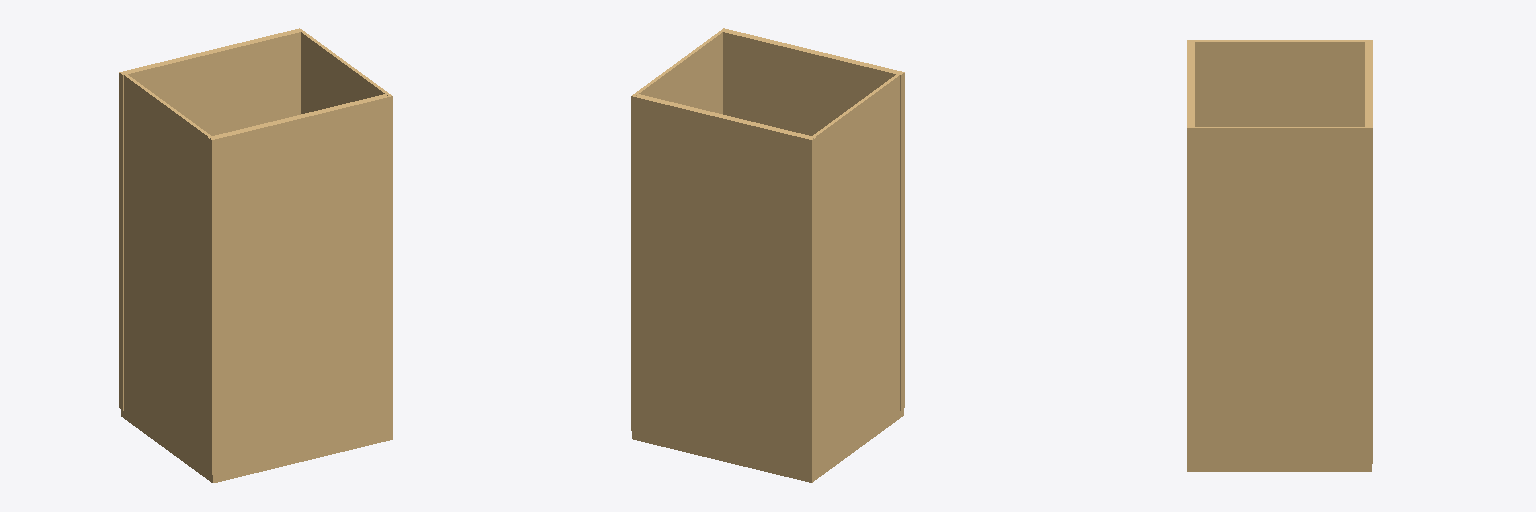
The model's file is chute.obj.
The picture shows the model from 3 angles: view 1: azimuth 30°, elevation 25°; view 2: azimuth 150°, elevation 25°; view 3: azimuth 270°, elevation 25°; orthographic projection.
Visible parts, largest first — view 1: Cube_Cube.001; view 2: Cube_Cube.001; view 3: Cube_Cube.001.
Part boxes in pixels (x1,y1,x2,y2): Cube_Cube.001: (119,28,392,482); Cube_Cube.001: (631,28,904,482); Cube_Cube.001: (1187,40,1372,471).
Bounding box in the file's own units: 29.96 × 54.37 × 26.61.